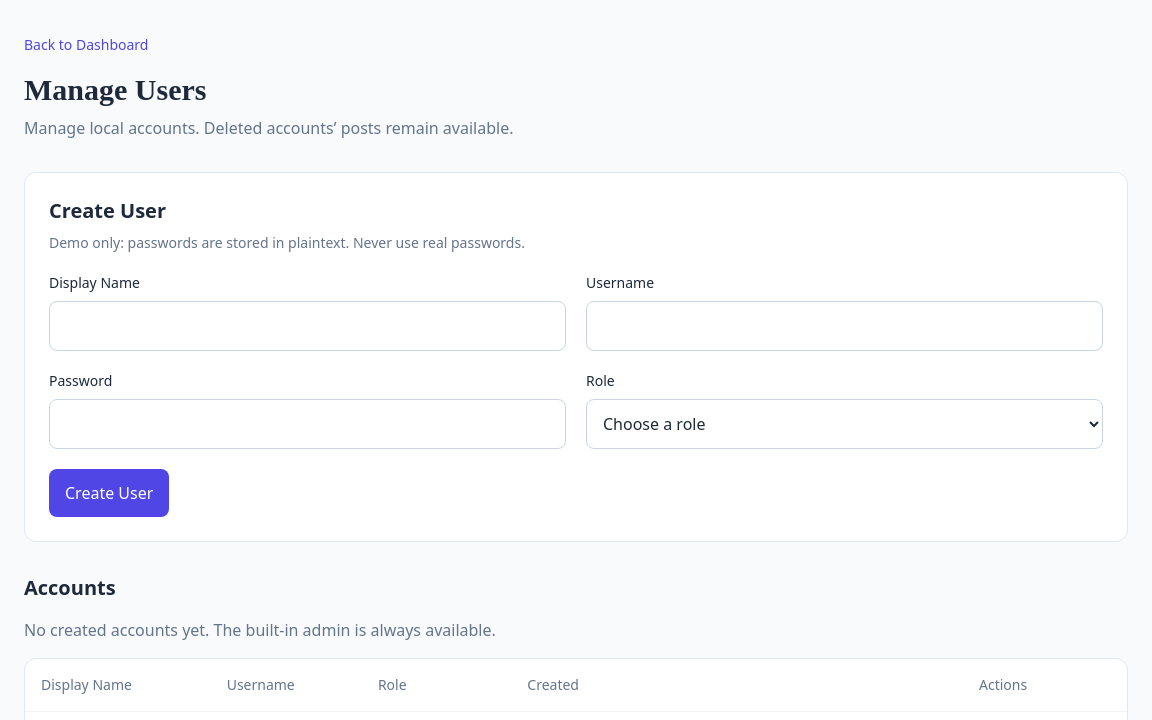
it: UserManagement interactions › shows only built-in empty state, semantic table and stacked cards with required errors associated
Expected: the text "No created accounts yet" is shown, [24,619,496,641]
Step 1. Click the button "Create User" → {"x": 109, "y": 493}, box [49,469,169,517]
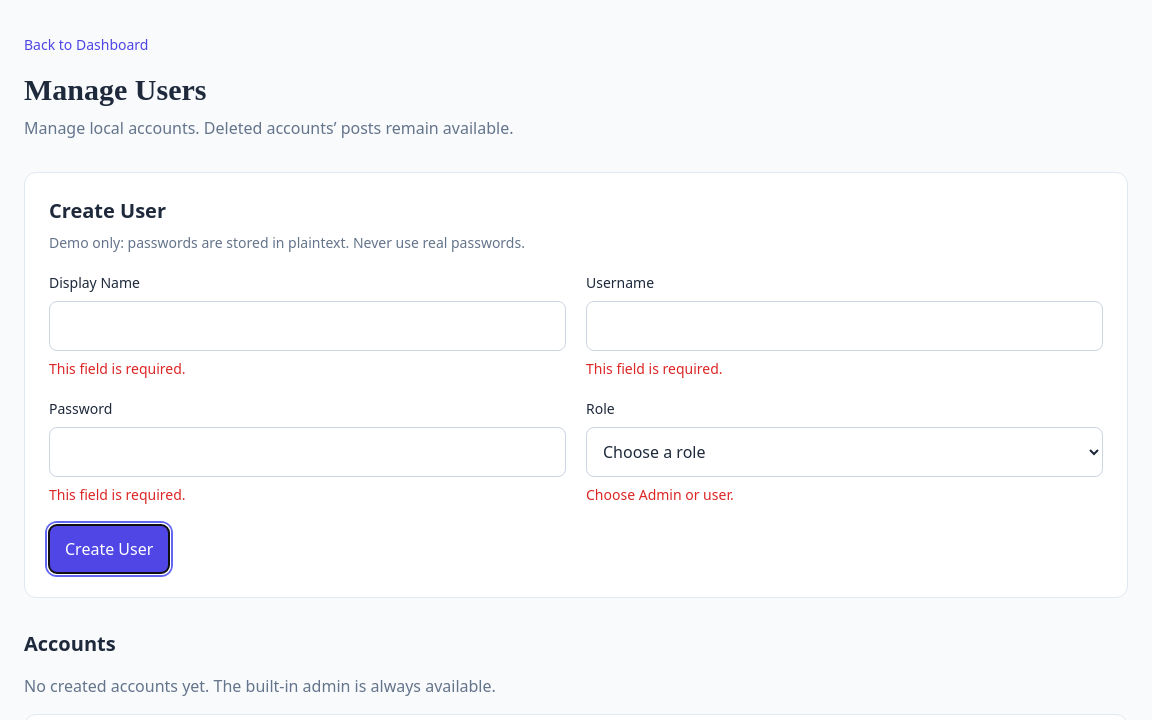
Result: the number of messages is 4 at [49,359,186,378]; [586,359,723,378]; [49,485,186,504]; [586,485,734,504]
